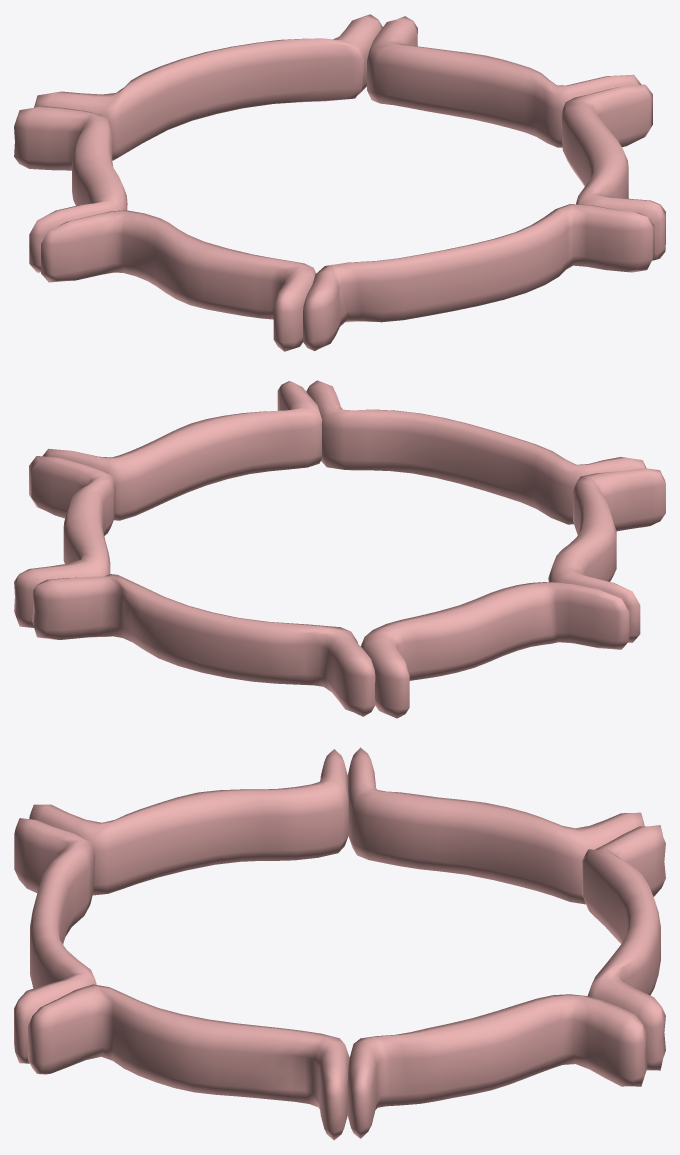
File: Cell Wall.fbx
3 renders of one model, top to bottom at view 1: azimuth 30°, elevation 25°; view 2: azimuth 150°, elevation 25°; view 3: azimuth 270°, elevation 25°, orthographic. The views are drawn at different scales.
Visible parts, largest first — view 1: polySurface12; view 2: polySurface12; view 3: polySurface12.
Part boxes in pixels (bbox=[...]): polySurface12: bbox=[14, 14, 665, 351]; polySurface12: bbox=[14, 380, 665, 718]; polySurface12: bbox=[14, 747, 665, 1140].
Size of the model in its own units: 29.23 by 3.01 by 23.66.
